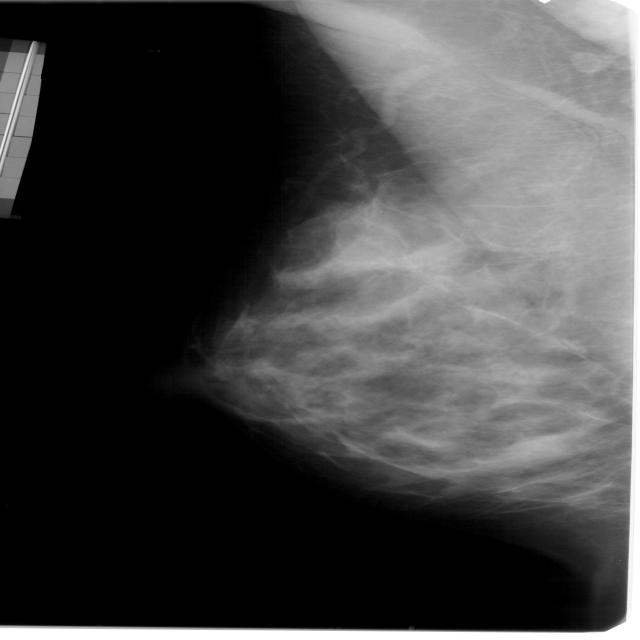cancer: (242, 197, 443, 308), (233, 357, 351, 399)
